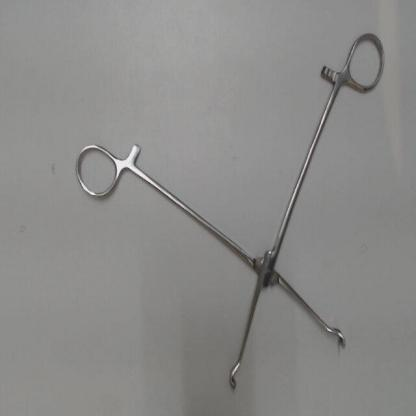8 Babcock Tissue Forceps: (68, 26, 391, 394)
